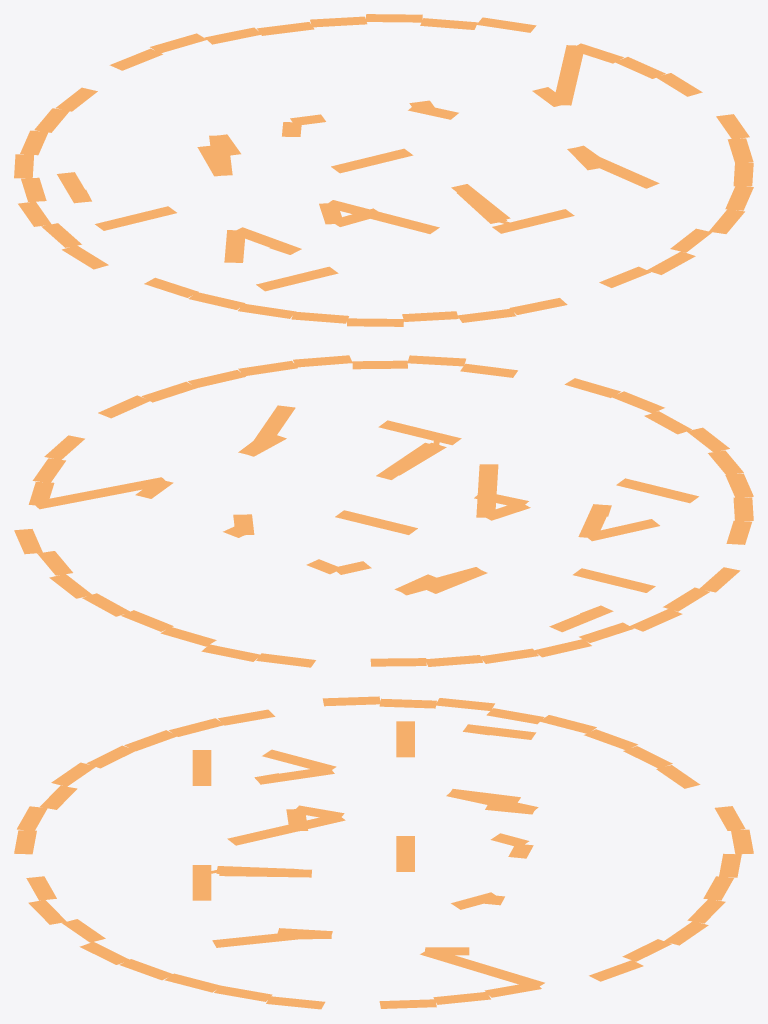
The model's file is message.glb.
3 renders of one model, top to bottom at view 1: azimuth 30°, elevation 25°; view 2: azimuth 150°, elevation 25°; view 3: azimuth 270°, elevation 25°, orthographic.
Visible parts, largest first — view 1: message; view 2: message; view 3: message.
Part boxes in pixels (x1,y1,x2,y2): message: (14,14,753,326); message: (14,355,753,667); message: (14,696,753,1009).
Bounding box in the file's own units: 0.8722 × 0 × 0.8713.
